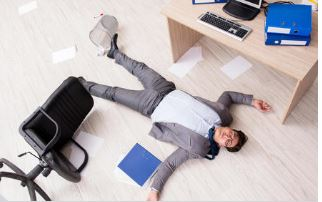falling: (71, 32, 248, 189)
